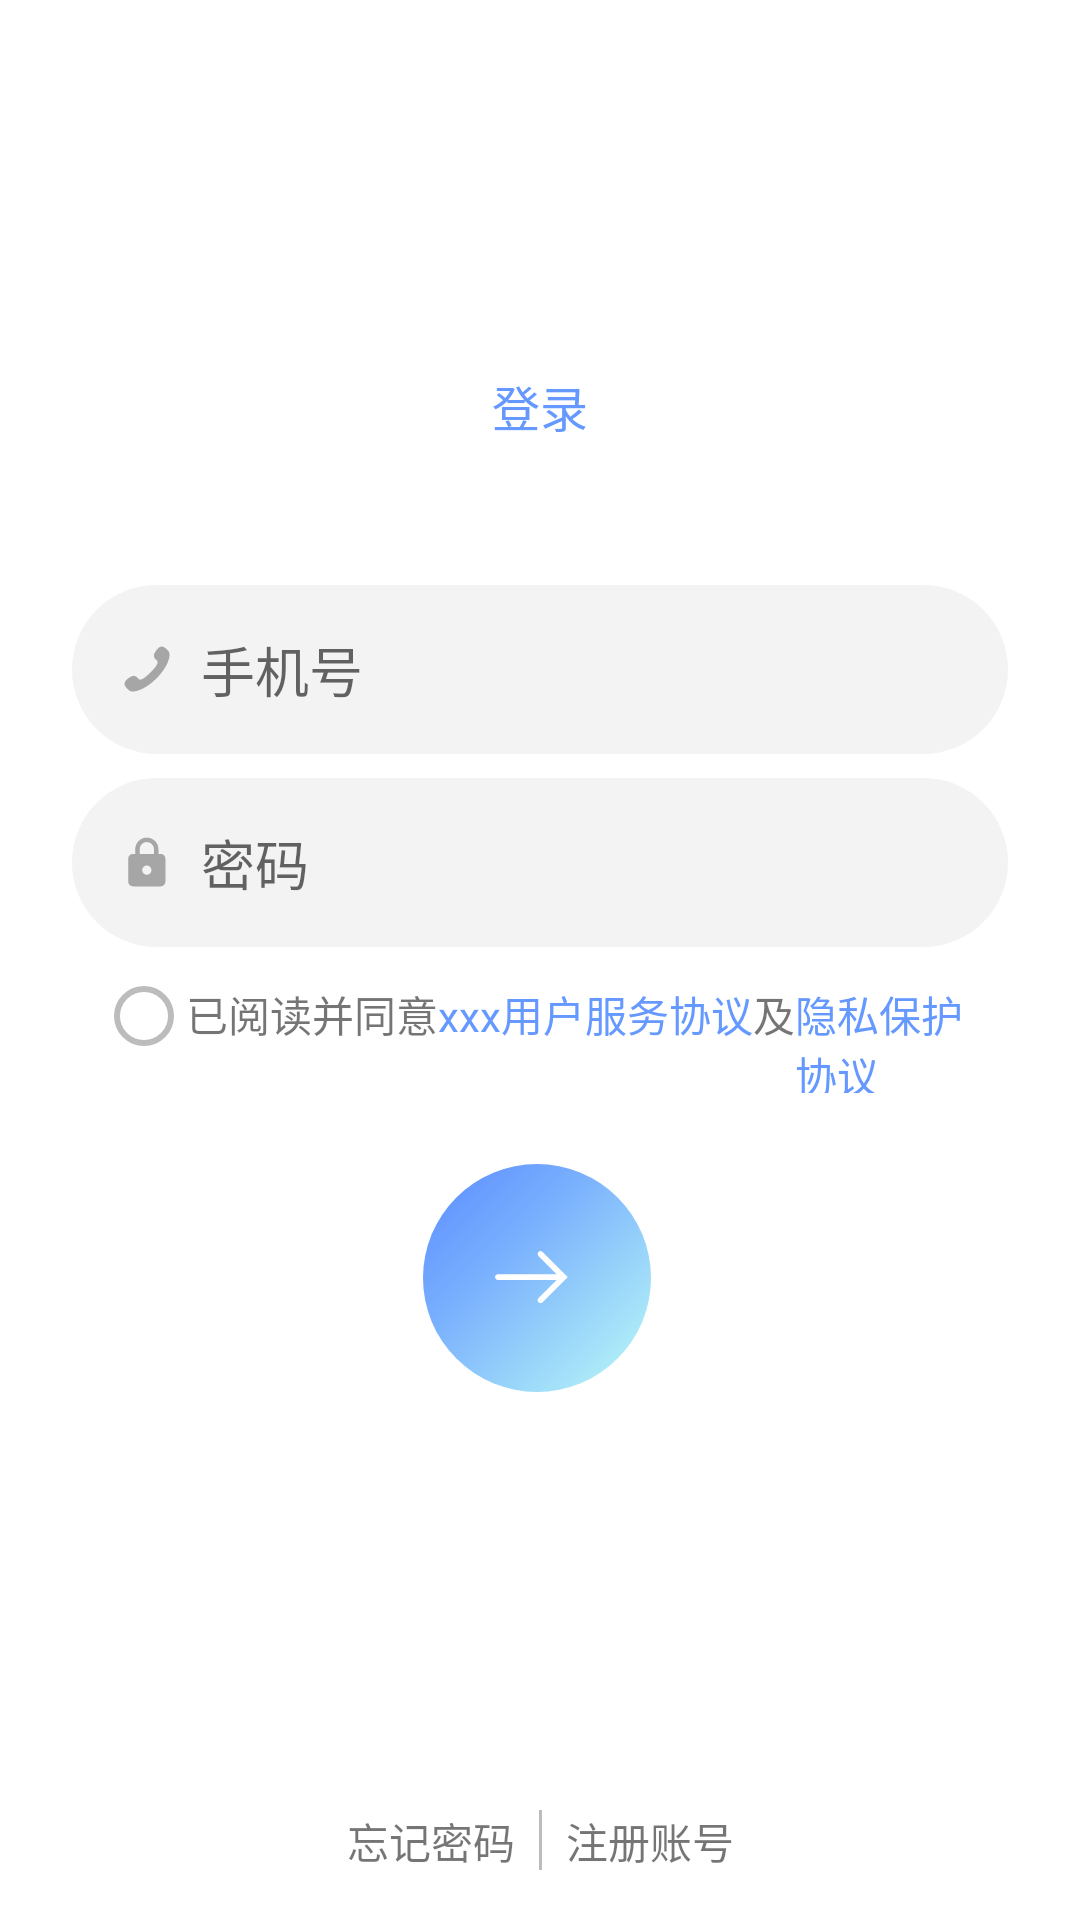

Where icons sit on this 1080w x 1920h app screen, as (x1=x1, y1=y1, x2=x2, y2=y2):
login: (x1=423, y1=1164, x2=651, y2=1392)
